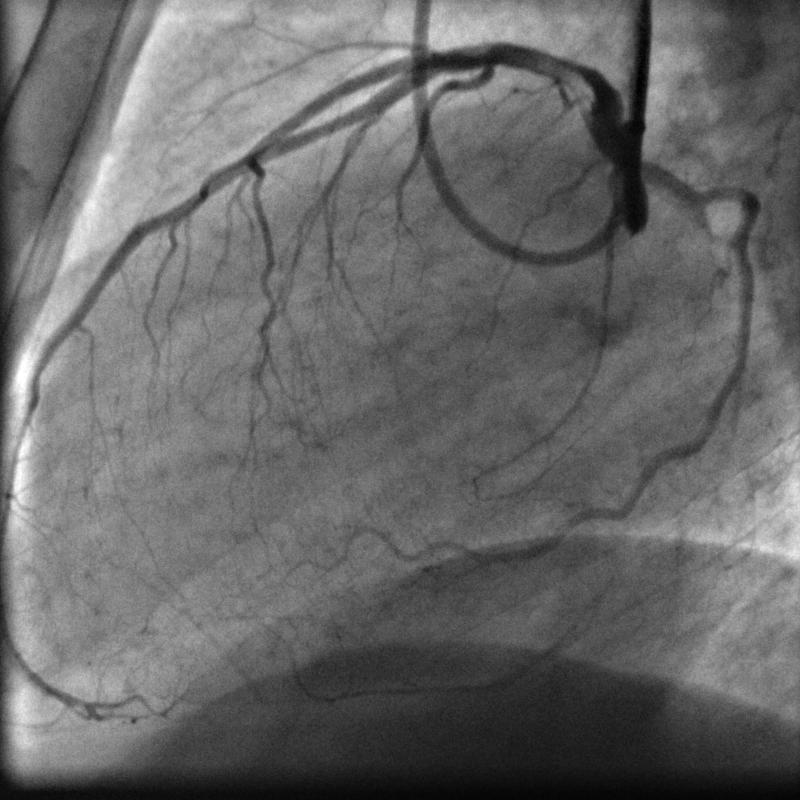Stenosis: (462, 42, 501, 89)
